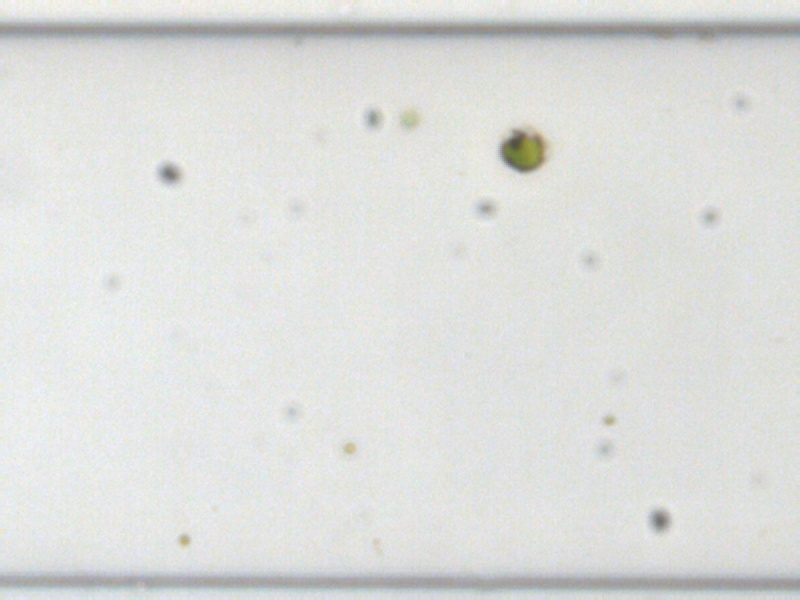Chlorella: (398, 111, 419, 132), (175, 532, 192, 545), (341, 440, 356, 454), (601, 413, 614, 425)
Platymonas: (498, 129, 546, 173)
